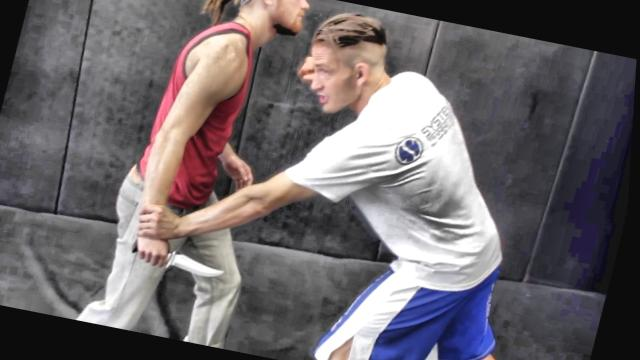knife: (125, 232, 236, 284)
